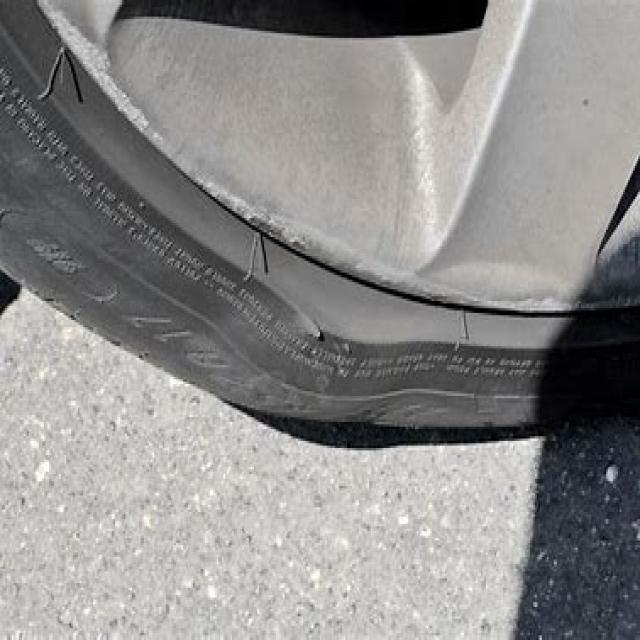Bulge: (230, 282, 388, 445)
